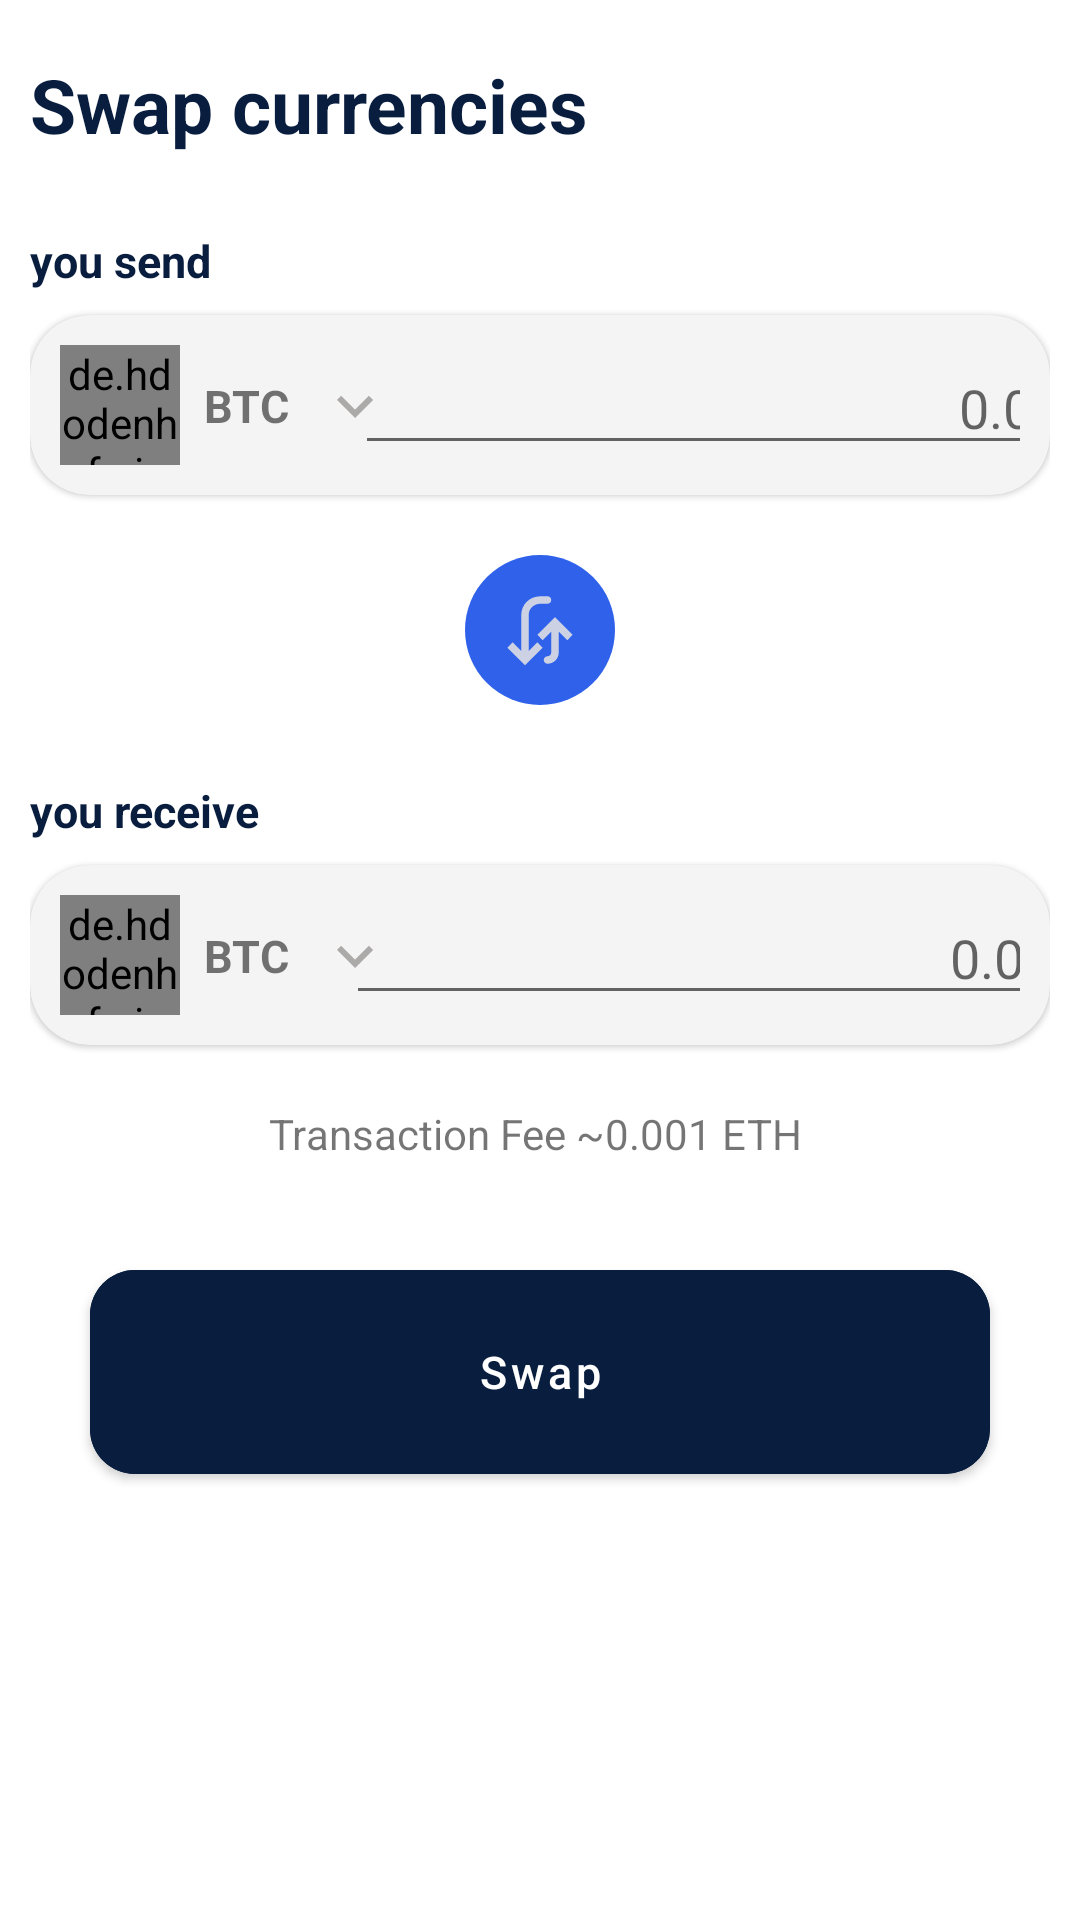

Named icons in this screenshot (1080w x 1920h) and their centers, point (x, y):
keyboard arrow down: point (355, 407), point (355, 957)
